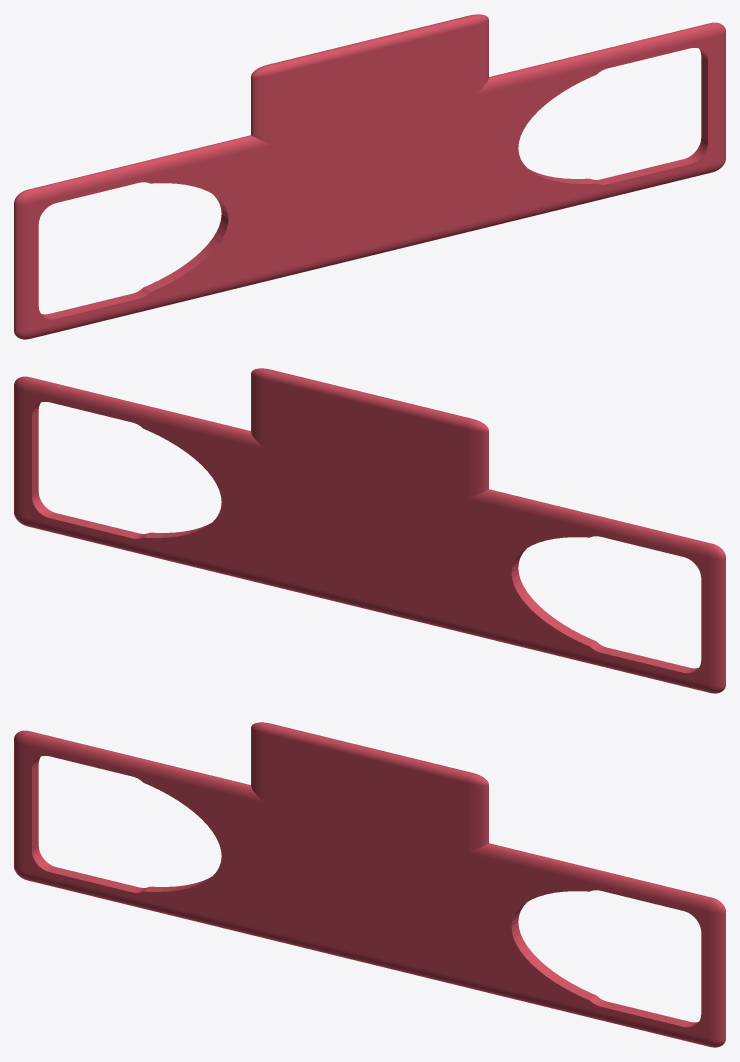
File: trash-can-elastic.glb
3 views of the same model, one above another, from view 1: azimuth 30°, elevation 25°; view 2: azimuth 150°, elevation 25°; view 3: azimuth 330°, elevation 25° (orthographic).
Parts seen in each view (by area): view 1: Mesh_Mesh_head_geo.001_lambert2SG.001; view 2: Mesh_Mesh_head_geo.001_lambert2SG.001; view 3: Mesh_Mesh_head_geo.001_lambert2SG.001.
Boxes of the visible parts, x1=… form: Mesh_Mesh_head_geo.001_lambert2SG.001: x1=14, y1=14, x2=725, y2=339; Mesh_Mesh_head_geo.001_lambert2SG.001: x1=14, y1=368, x2=725, y2=693; Mesh_Mesh_head_geo.001_lambert2SG.001: x1=14, y1=722, x2=725, y2=1047.
Bounding box in the file's own units: 90 × 26 × 1.5.
